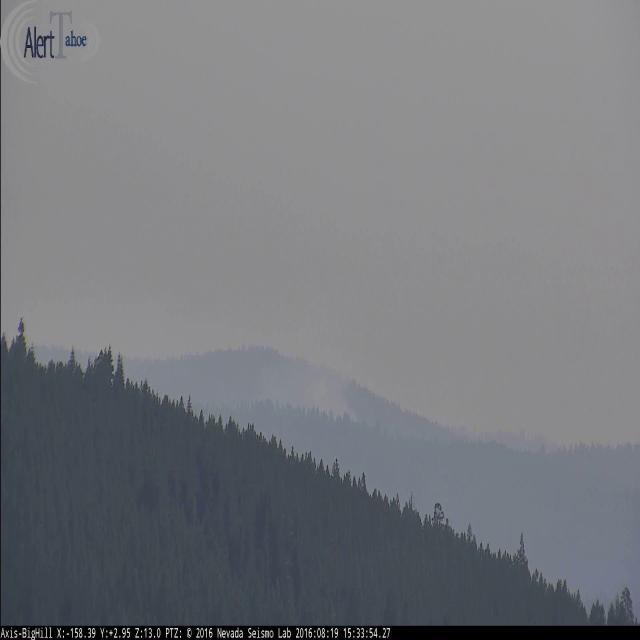smoke: (242, 324, 362, 425)
